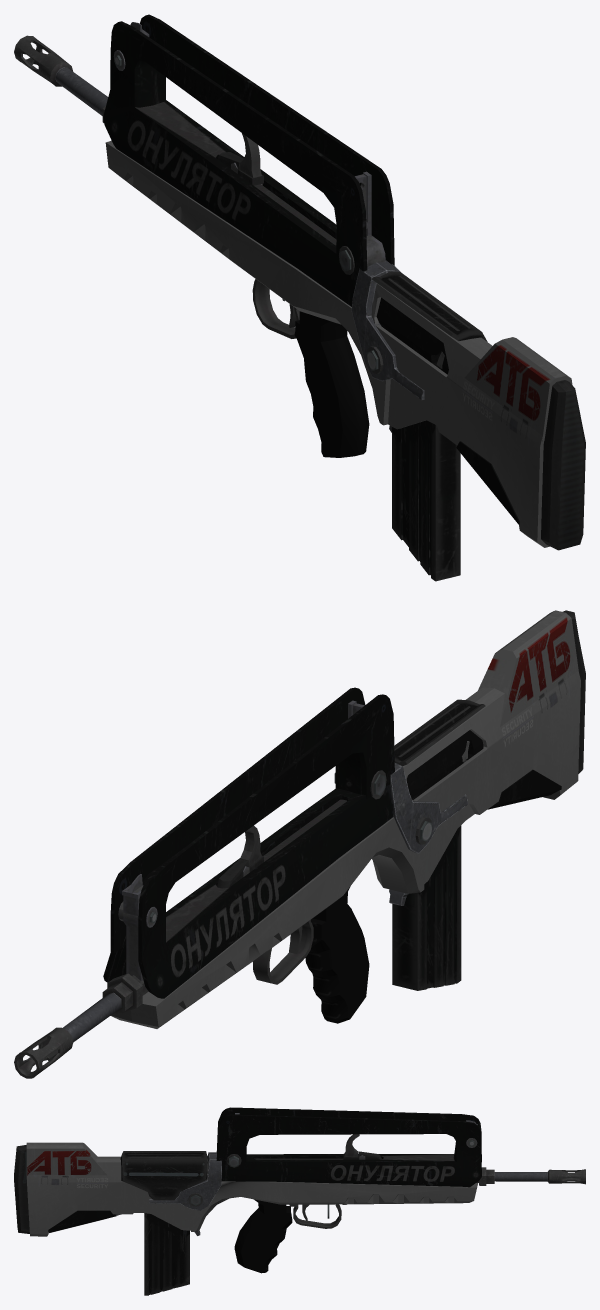
File: famas_f1__security_skin.glb
3 views of the same model, one above another, from view 1: azimuth 30°, elevation 25°; view 2: azimuth 150°, elevation 25°; view 3: azimuth 270°, elevation 25° (orthographic). The views are drawn at different scales.
Visible parts, largest first — view 1: famas-f1-atb-skin; view 2: famas-f1-atb-skin; view 3: famas-f1-atb-skin.
Boxes of the visible parts, left/top/right/bottom form: famas-f1-atb-skin: left=14, top=14, right=585, bottom=581; famas-f1-atb-skin: left=14, top=610, right=585, bottom=1078; famas-f1-atb-skin: left=14, top=1107, right=585, bottom=1295.
Size of the model in its own units: 0.044 by 0.2656 by 0.7612.
1 material, 1 textured.
